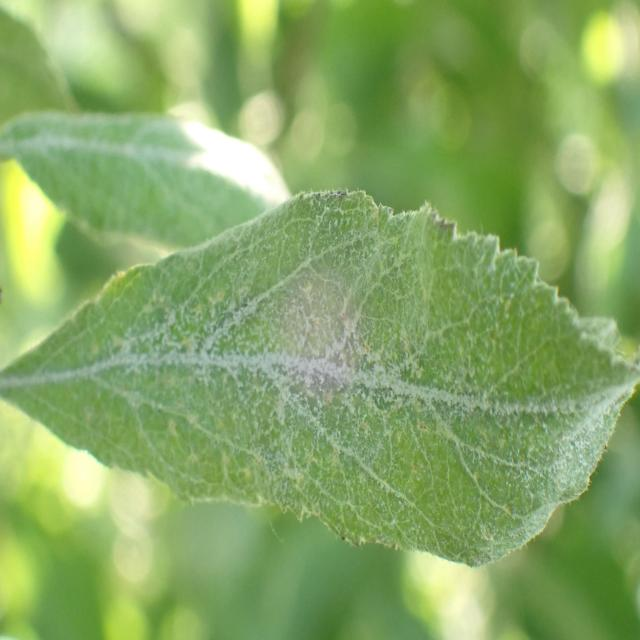Powdery_mildew: (50, 194, 610, 562)
